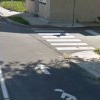crosswalk: (34, 29, 95, 50)
